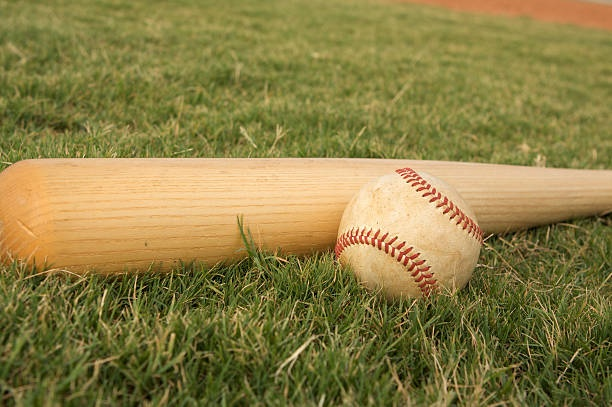bita: (2, 155, 612, 286)
